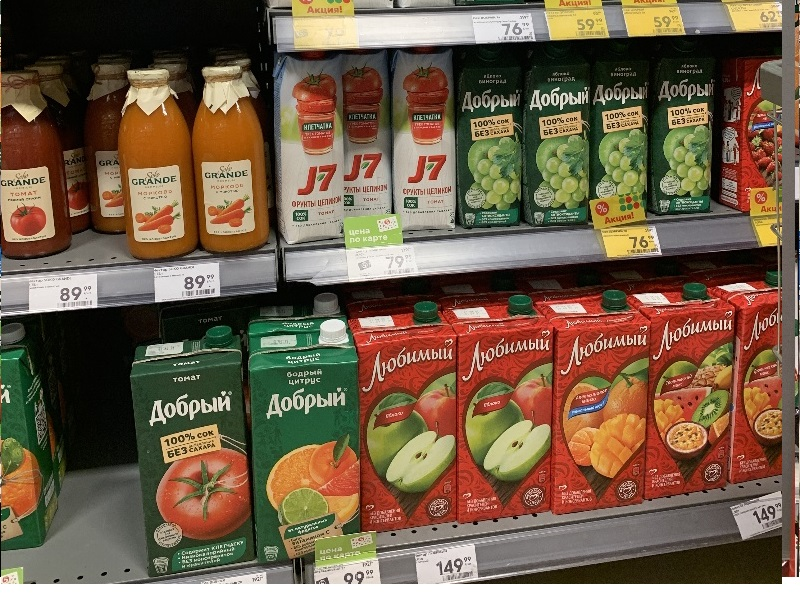juice: (123, 325, 267, 581), (238, 318, 374, 569), (344, 300, 465, 539), (444, 297, 563, 532), (538, 291, 654, 514), (635, 282, 737, 508), (448, 41, 539, 235), (269, 47, 356, 249), (379, 42, 467, 239), (643, 39, 723, 218), (521, 40, 593, 232)
